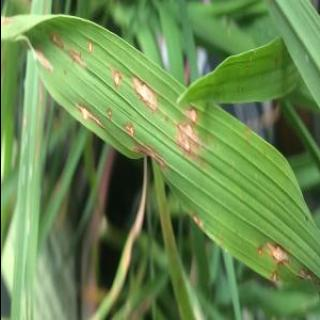Blast: (108, 68, 159, 110), (174, 107, 202, 162)
